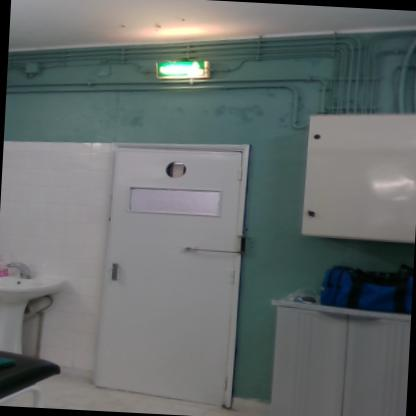closed: (86, 121, 254, 415)
